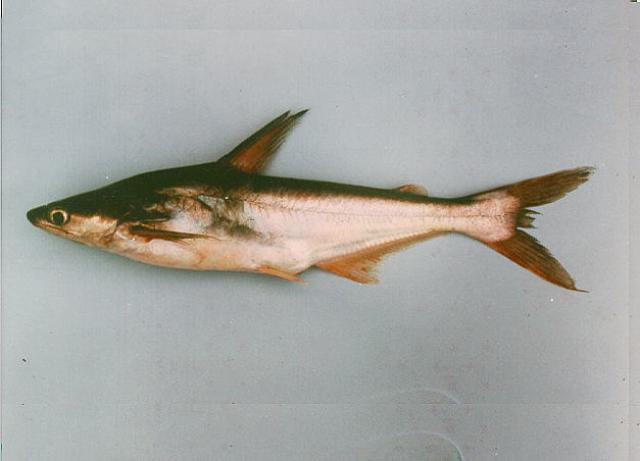Mulut: (21, 183, 84, 257)
Sirip Anal: (318, 224, 458, 306)
Sirip Dada: (125, 212, 215, 261)
Sirip Ekor: (466, 150, 596, 302)
Sirip Perut: (253, 254, 310, 295)
Sirip Punggung: (208, 104, 318, 186)
